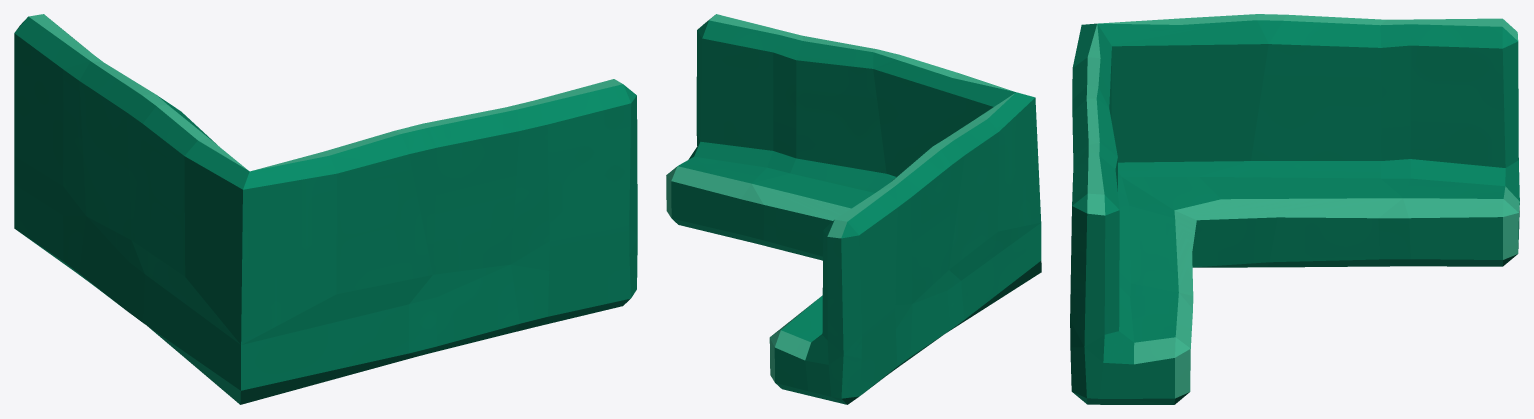
File: ml_couch.glb
3 renders of one model, left to right at view 1: azimuth 30°, elevation 25°; view 2: azimuth 150°, elevation 25°; view 3: azimuth 270°, elevation 25°, orthographic. The views are drawn at different scales.
Parts seen in each view (by area): view 1: Cube.002; view 2: Cube.002; view 3: Cube.002.
Part boxes in pixels (x1,y1,x2,y2): Cube.002: (14,14,637,404); Cube.002: (666,14,1041,404); Cube.002: (1070,14,1519,404).
Bounding box in the file's own units: 11.5 × 6.1 × 11.52.
Materials: 1 (1 with a texture image).
